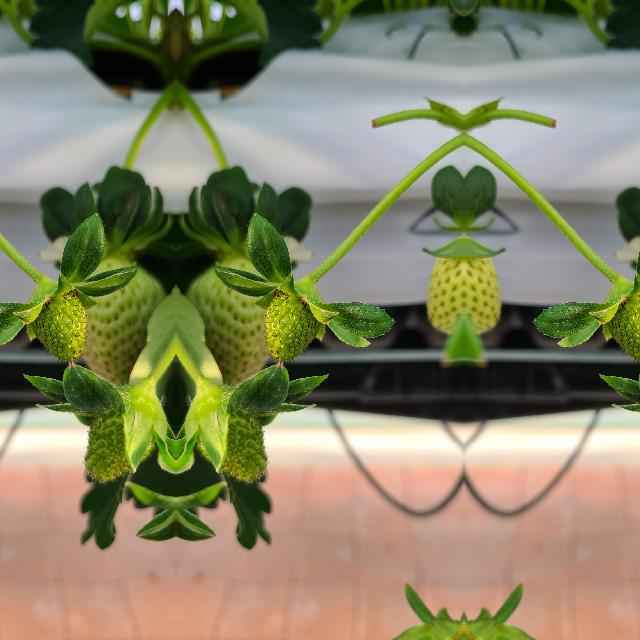Health_25: (196, 400, 270, 488), (80, 400, 154, 488), (264, 292, 320, 360), (30, 292, 86, 360), (606, 292, 640, 360)
